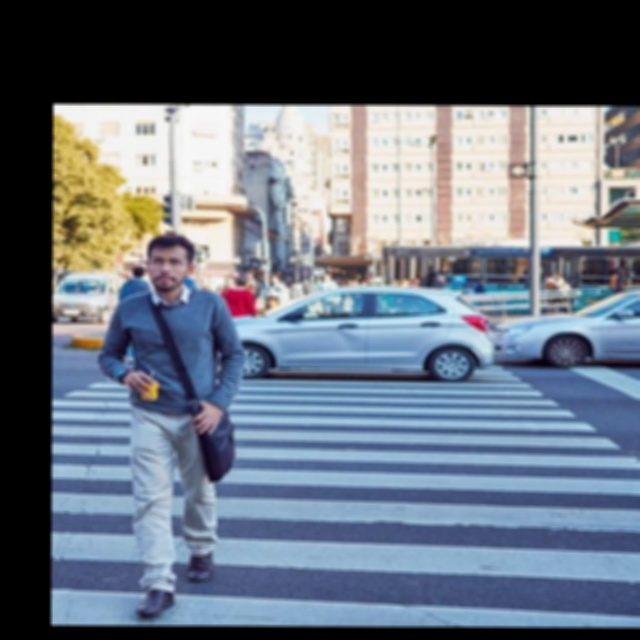Sin_Casco_Mascarrilla: (144, 230, 197, 293)
Sin_Chaleco: (114, 290, 224, 415)
